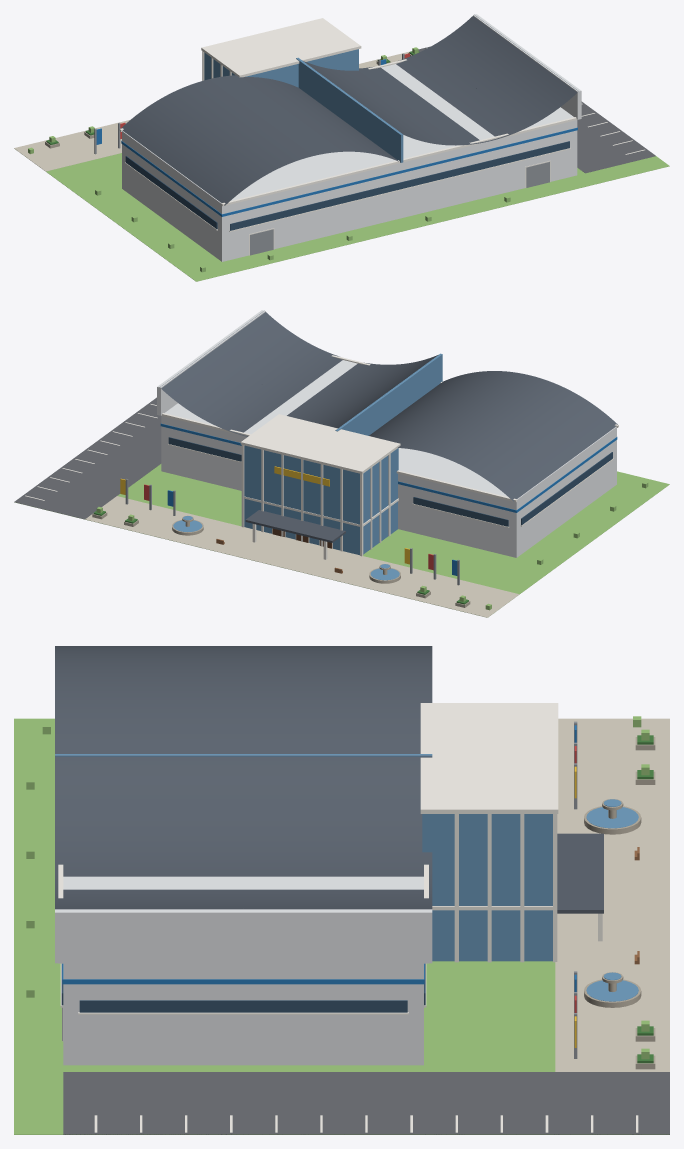
Rendered from convention.glb.
3 views of the same model, one above another, from view 1: azimuth 30°, elevation 25°; view 2: azimuth 150°, elevation 25°; view 3: azimuth 270°, elevation 25° (orthographic). The views are drawn at different scales.
Visible parts, largest first — view 1: roof_wave (×2), hall, lawn, atrium_roof, window_band (×2), clerestory, car_park, plaza, atrium, accent_stripe, roof_edge, garage_door (×2) (+2 smaller); view 2: roof_wave (×2), hall, lawn, plaza, atrium, car_park, atrium_roof, clerestory, window_band (×3), canopy, accent_stripe, roof_end_wall (+1 smaller); view 3: roof_wave (×2), car_park, hall, lawn, plaza, roof_end_wall, atrium, atrium_roof, window_band, canopy, mullion (×4), accent_stripe (+3 smaller).
Boxes of the visible parts, left/top/right/bottom form: roof_wave (×2): left=121, top=14, right=578, bottom=205; hall: left=122, top=64, right=577, bottom=261; lawn: left=15, top=149, right=669, bottom=281; atrium_roof: left=201, top=18, right=361, bottom=77; window_band (×2): left=125, top=141, right=569, bottom=230; clerestory: left=296, top=57, right=403, bottom=162; car_park: left=418, top=46, right=655, bottom=173; plaza: left=14, top=51, right=411, bottom=171; atrium: left=204, top=49, right=358, bottom=87; accent_stripe: left=121, top=127, right=577, bottom=216; roof_edge: left=221, top=117, right=577, bottom=206; garage_door (×2): left=250, top=162, right=549, bottom=255; roof_wave (×2): left=160, top=310, right=617, bottom=501; hall: left=161, top=360, right=616, bottom=557; lawn: left=15, top=464, right=669, bottom=617; plaza: left=85, top=496, right=519, bottom=617; atrium: left=244, top=445, right=398, bottom=555; car_park: left=14, top=397, right=161, bottom=519; atrium_roof: left=240, top=414, right=400, bottom=473; clerestory: left=335, top=353, right=442, bottom=435; window_band (×3): left=168, top=437, right=612, bottom=526; canopy: left=245, top=510, right=345, bottom=542; accent_stripe: left=160, top=423, right=617, bottom=512; roof_end_wall: left=157, top=310, right=265, bottom=415; roof_wave (×2): left=55, top=646, right=432, bottom=909; car_park: left=63, top=1072, right=669, bottom=1134; hall: left=63, top=876, right=423, bottom=1065; lawn: left=14, top=718, right=668, bottom=1134; plaza: left=555, top=718, right=669, bottom=1071; roof_end_wall: left=55, top=909, right=432, bottom=963; atrium: left=422, top=814, right=552, bottom=961; atrium_roof: left=420, top=703, right=558, bottom=813; window_band: left=79, top=1000, right=407, bottom=1012; canopy: left=557, top=833, right=603, bottom=913; mullion (×4): left=454, top=814, right=557, bottom=962; accent_stripe: left=62, top=963, right=424, bottom=984.
Size of the model in its own units: 120 by 20.85 by 80.
